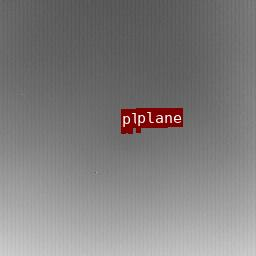plane: (121, 128, 132, 132), (136, 127, 140, 130)
